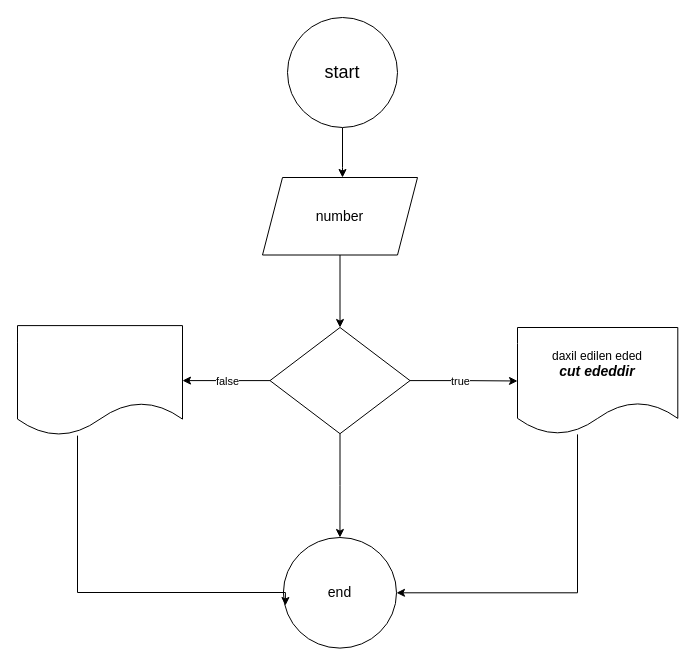
Some shapes in this 696 by 666 pixel diagram are drawn without their labels. Each missing label, with the box of its shape:
daxil edilen eded tek ededdir: (16, 325, 182, 436)
number%2=0: (269, 326, 410, 434)
